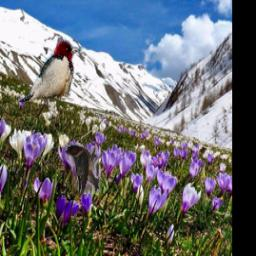Swallow: (65, 146, 100, 195)
Woodpecker: (19, 41, 82, 103)
